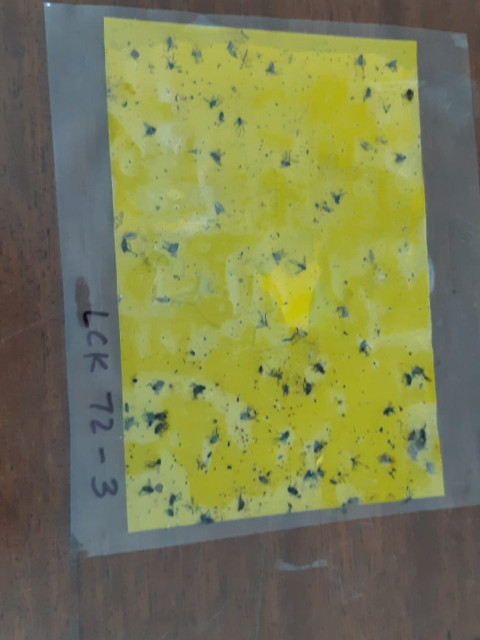DBM: (209, 199, 227, 217)
